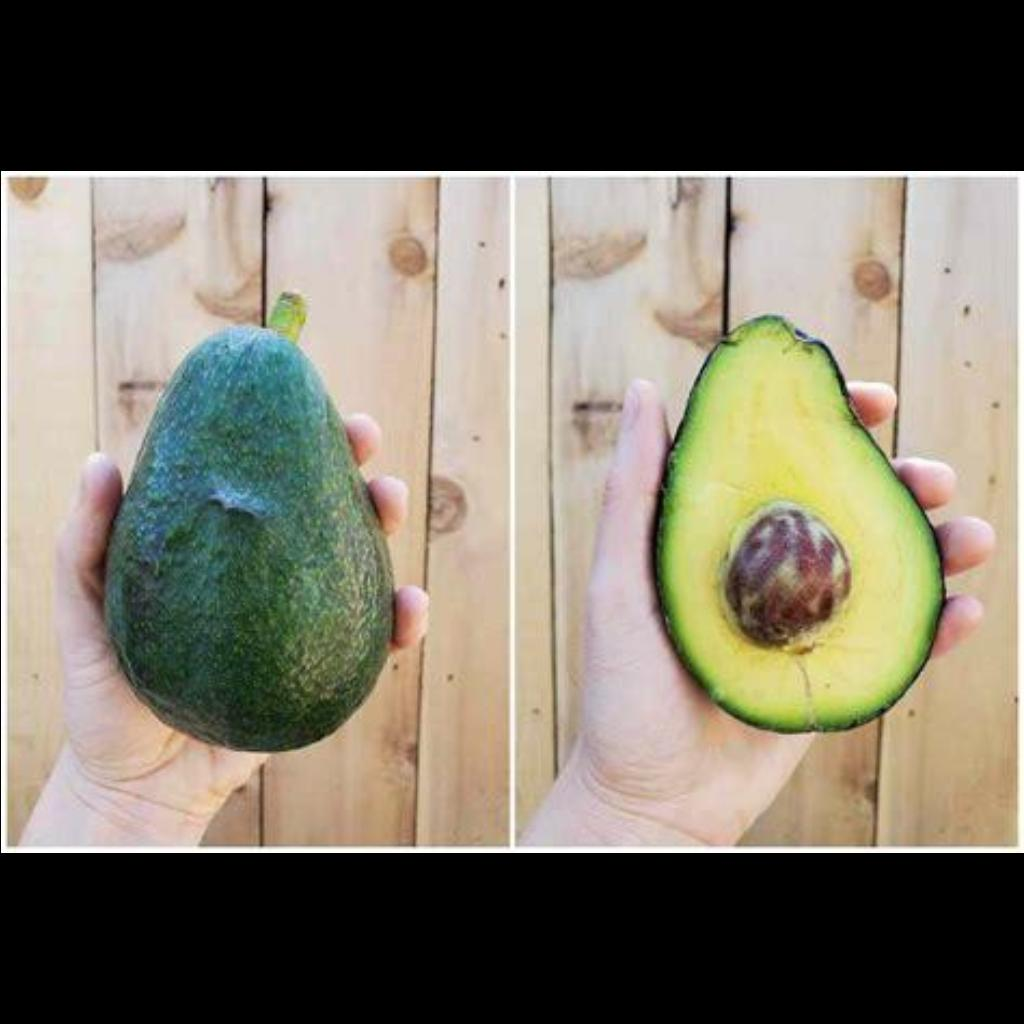Anthracnose: (120, 427, 256, 699)
